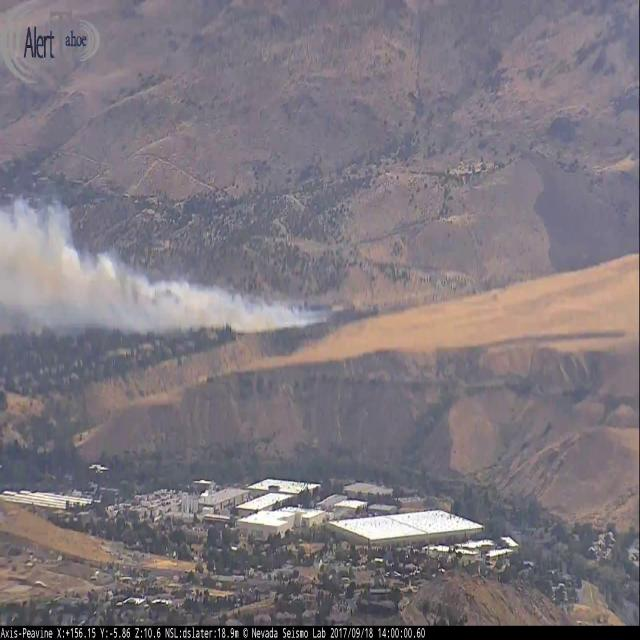smoke: (0, 187, 329, 331)
